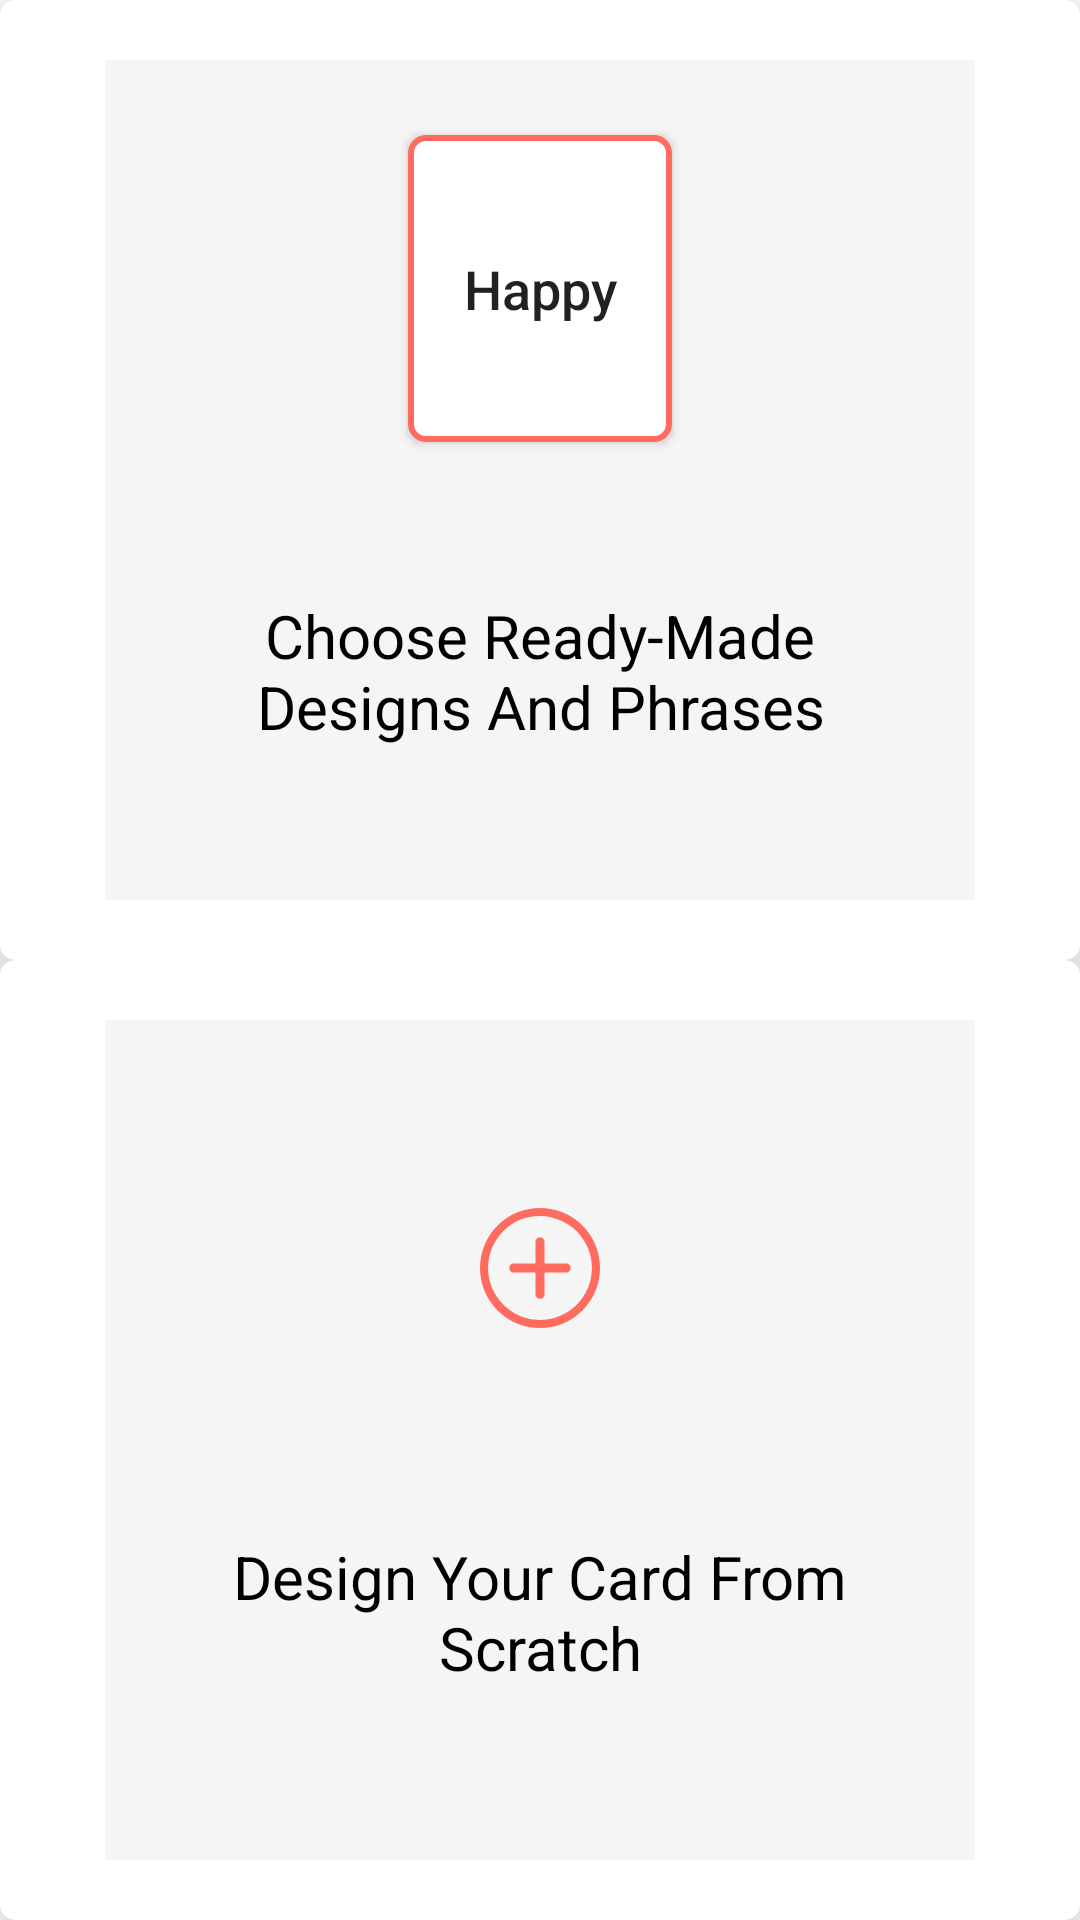

Where icons sit on this 1080w x 1920h app screen, as (x1, y1, x2, y2):
plus: (480, 1208, 600, 1328)
